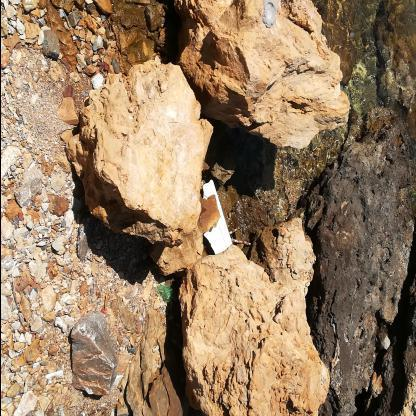kopuk: (203, 180, 233, 257)
